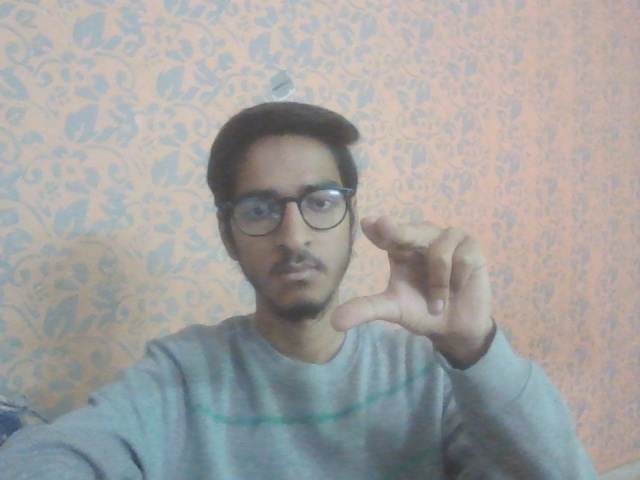No: (326, 208, 505, 352)
